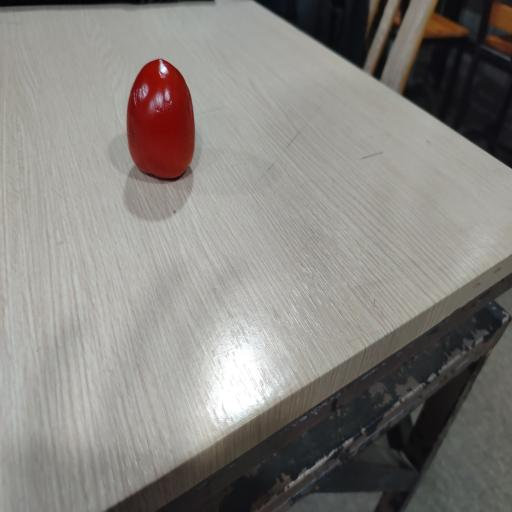spoiled: (127, 59, 195, 178)
